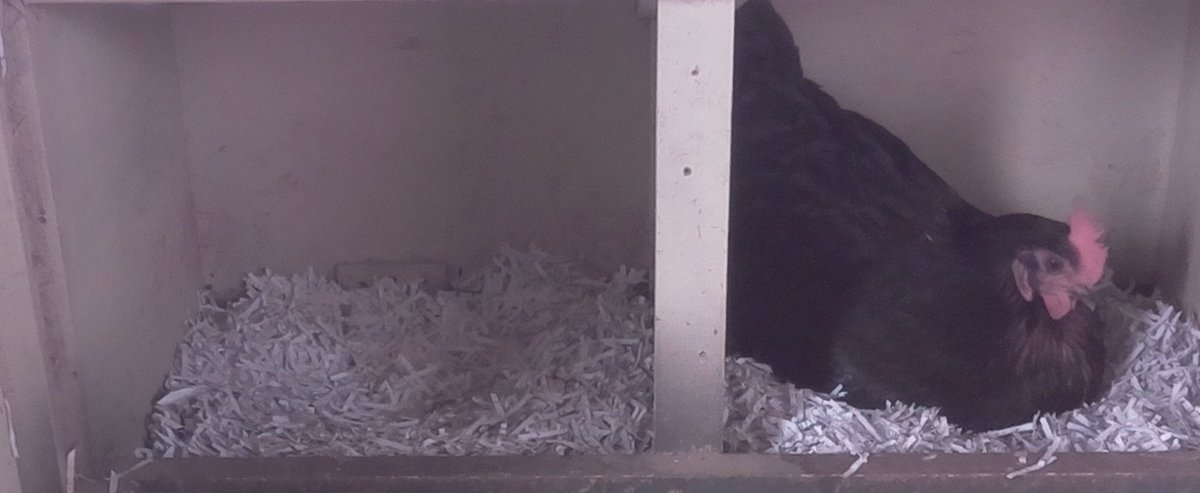hen: (737, 8, 1116, 434)
